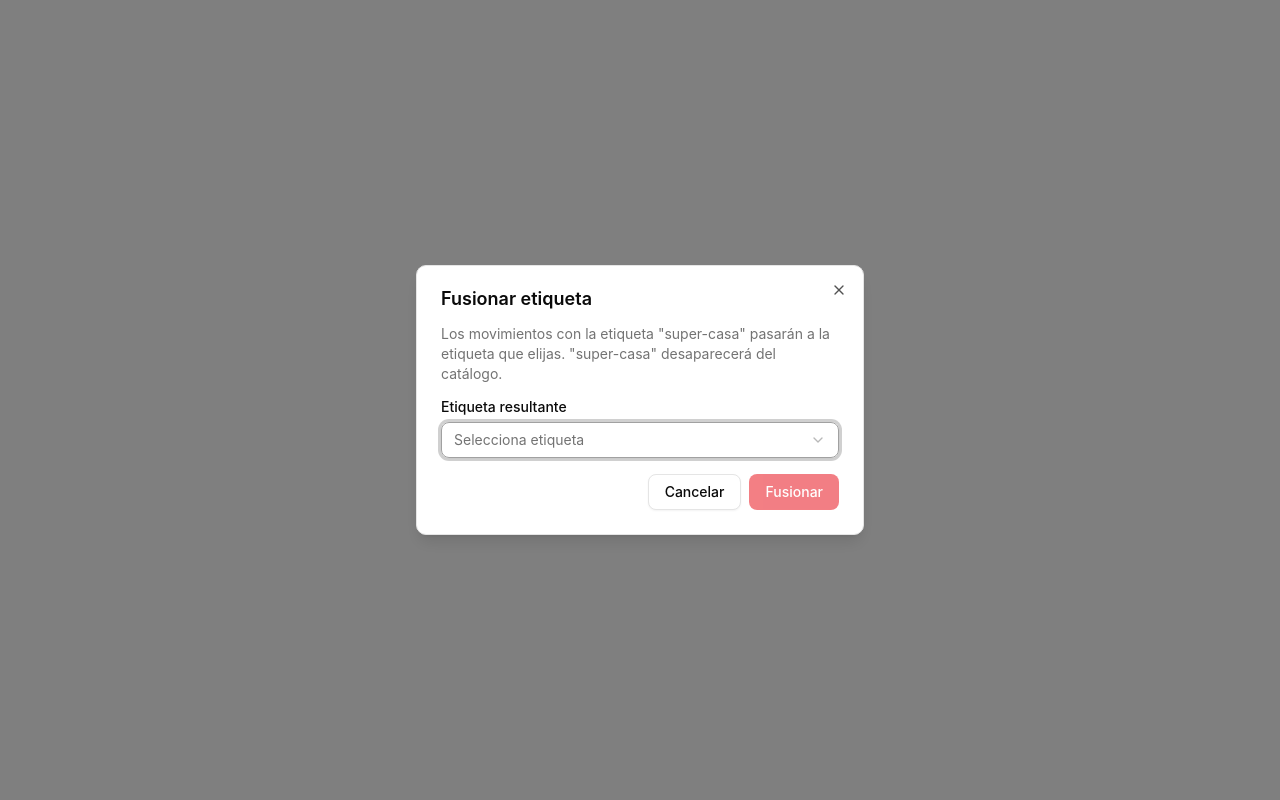
Scenario: MergeTagsDialog › el Select ofrece todas menos la propia absorbida y las protegidas; inactivas con sufijo
Click the dropdown named "Etiqueta resultante" at coordinates (519, 440), box [441,422,839,458]
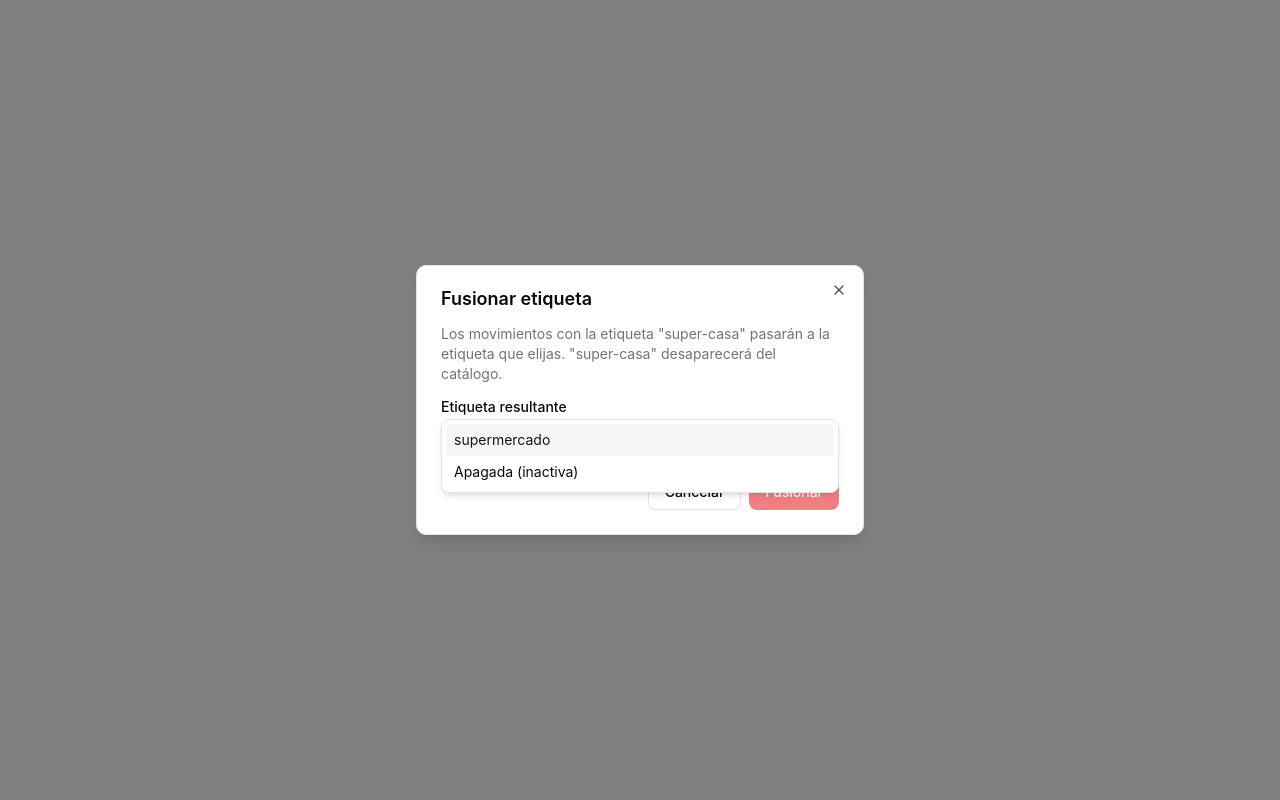
Now the options read "supermercado", "Apagada (inactiva)", in this order, box [446,424,834,456]; [454,463,578,480]
